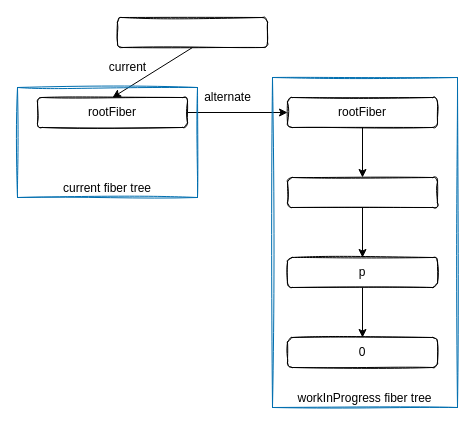
The diagram is 475 pixels wide and 425 high, and some of its shapes have lost their labels. The shapes that lost their labels are listed below. From the top down, each one's centre as x and y in pixels, then its label:
At [192,32]: "fiberRootNode".
At [362,192]: "App".
